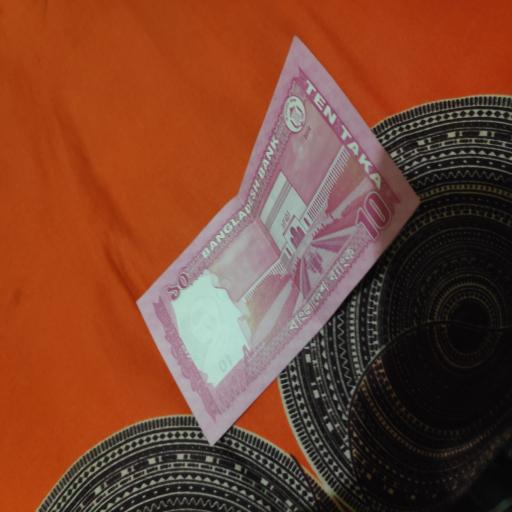10taka: (138, 34, 420, 449)
